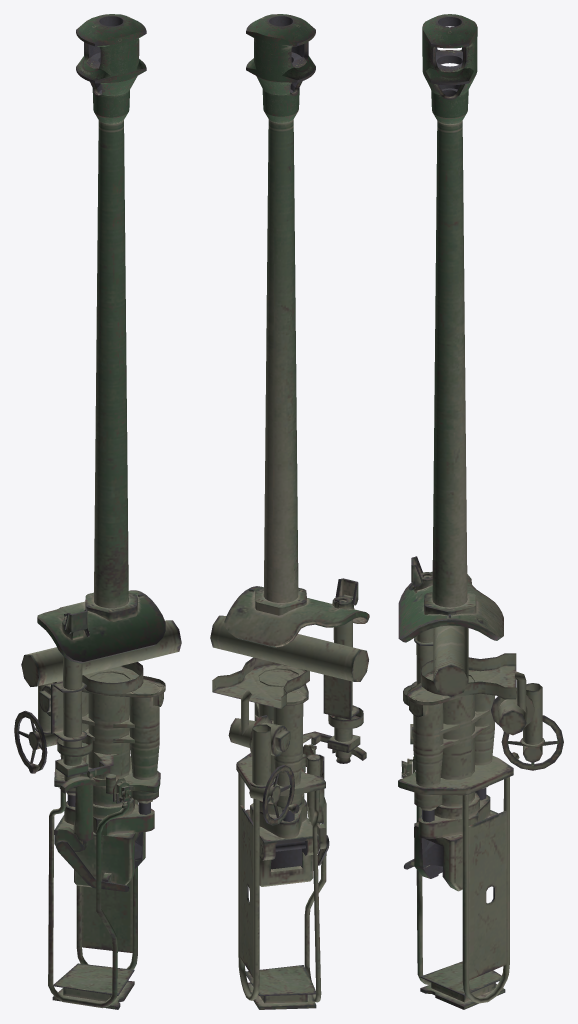
File: Gun_01.glb
3 views of the same model, side by side, from view 1: azimuth 30°, elevation 25°; view 2: azimuth 150°, elevation 25°; view 3: azimuth 270°, elevation 25° (orthographic).
Visible parts, largest first — view 1: set_0_group_0; view 2: set_0_group_0; view 3: set_0_group_0.
Part boxes in pixels (bbox=[...]): set_0_group_0: bbox=[14, 14, 181, 1009]; set_0_group_0: bbox=[210, 14, 369, 1009]; set_0_group_0: bbox=[398, 14, 563, 1009].
Size of the model in its own units: 0.7281 by 4.76 by 0.7343.
Materials: 1 (1 with a texture image).
